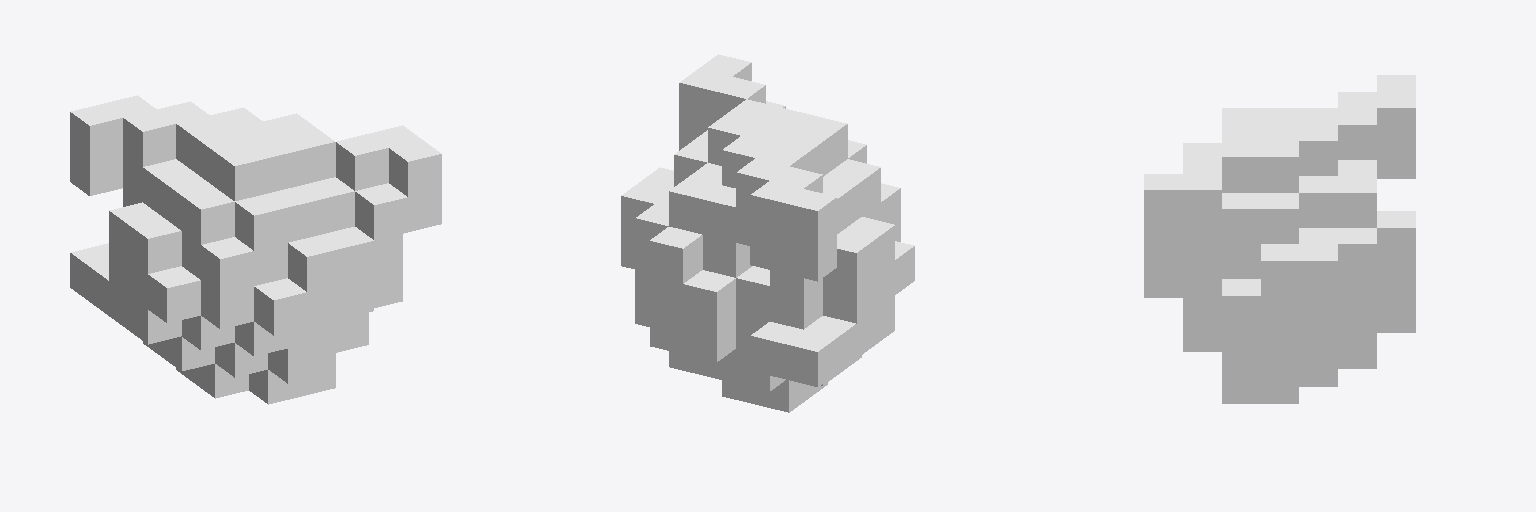
Rendered from bloxGoal.obj.
3 views of the same model, side by side, from view 1: azimuth 30°, elevation 25°; view 2: azimuth 150°, elevation 25°; view 3: azimuth 270°, elevation 25° (orthographic).
Size of the model in its own units: 7 by 7 by 7.